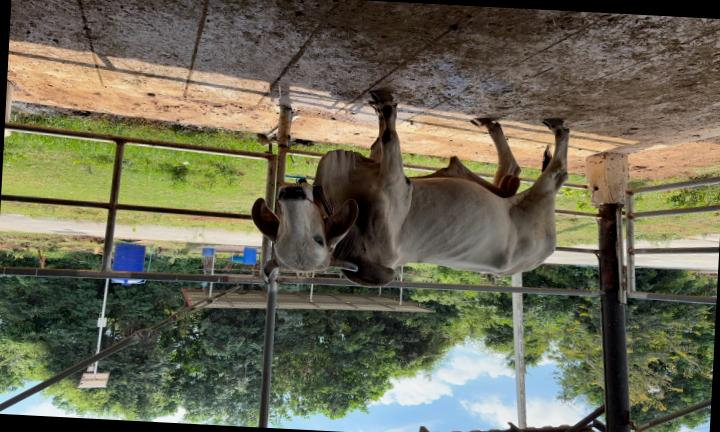Brahman: (251, 93, 568, 287)
